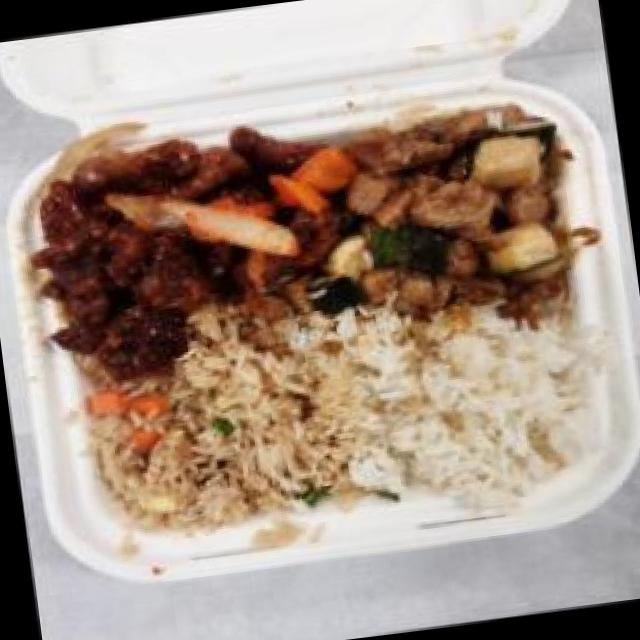Beijing Beef: (7, 96, 355, 396)
Fried Rice: (73, 307, 380, 548)
Kung Pao Chicken: (321, 90, 600, 332)
White Steamed Rice: (331, 294, 617, 515)
